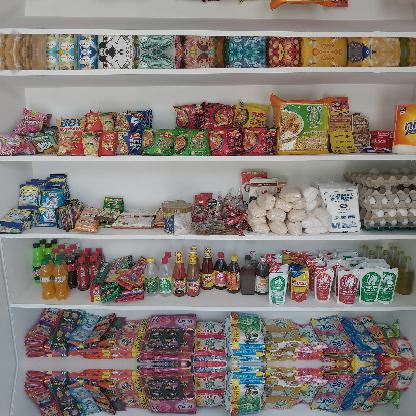Lady-s-Choice: (162, 202, 192, 235)
